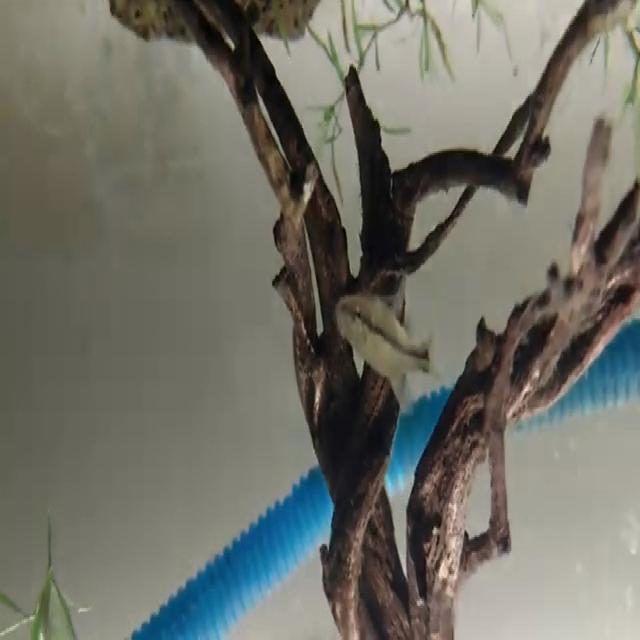Cakil Baligi: (332, 283, 442, 399)
